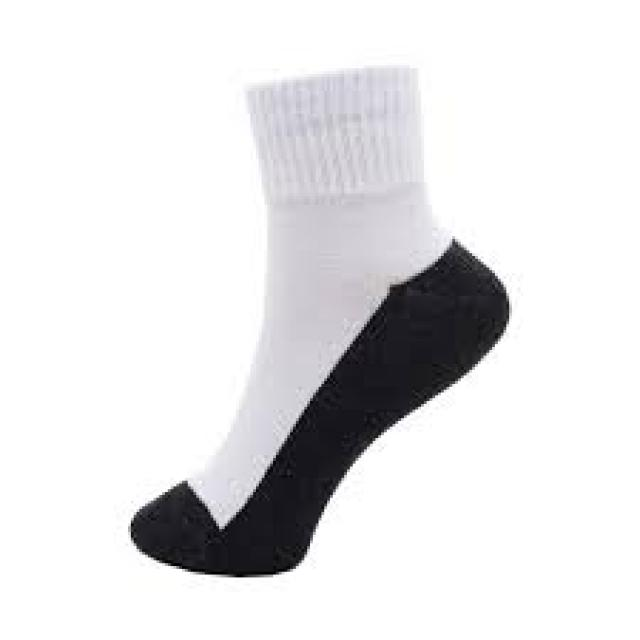sock: (128, 62, 509, 578)
